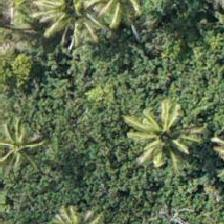coconut_tree: (125, 97, 215, 187), (0, 95, 52, 185), (2, 0, 92, 49)
